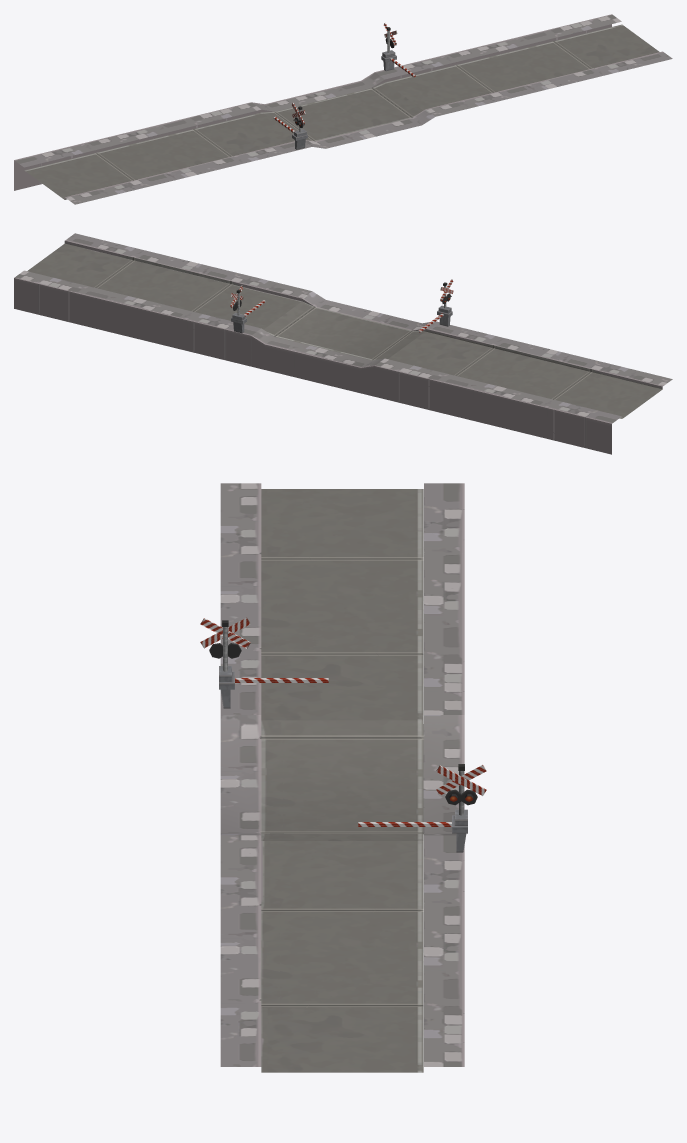
Rendered from Road_Part1.FBX.
3 views of the same model, one above another, from view 1: azimuth 30°, elevation 25°; view 2: azimuth 150°, elevation 25°; view 3: azimuth 270°, elevation 25° (orthographic). The views are drawn at different scales.
Parts seen in each view (by area): view 1: RoadPiece; view 2: RoadPiece; view 3: RoadPiece.
Part boxes in pixels (box(x1,y1,x2,y2)): RoadPiece: box(14, 14, 672, 204); RoadPiece: box(14, 233, 672, 454); RoadPiece: box(200, 483, 486, 1072).
Size of the model in its own units: 6792 by 794 by 1407.
